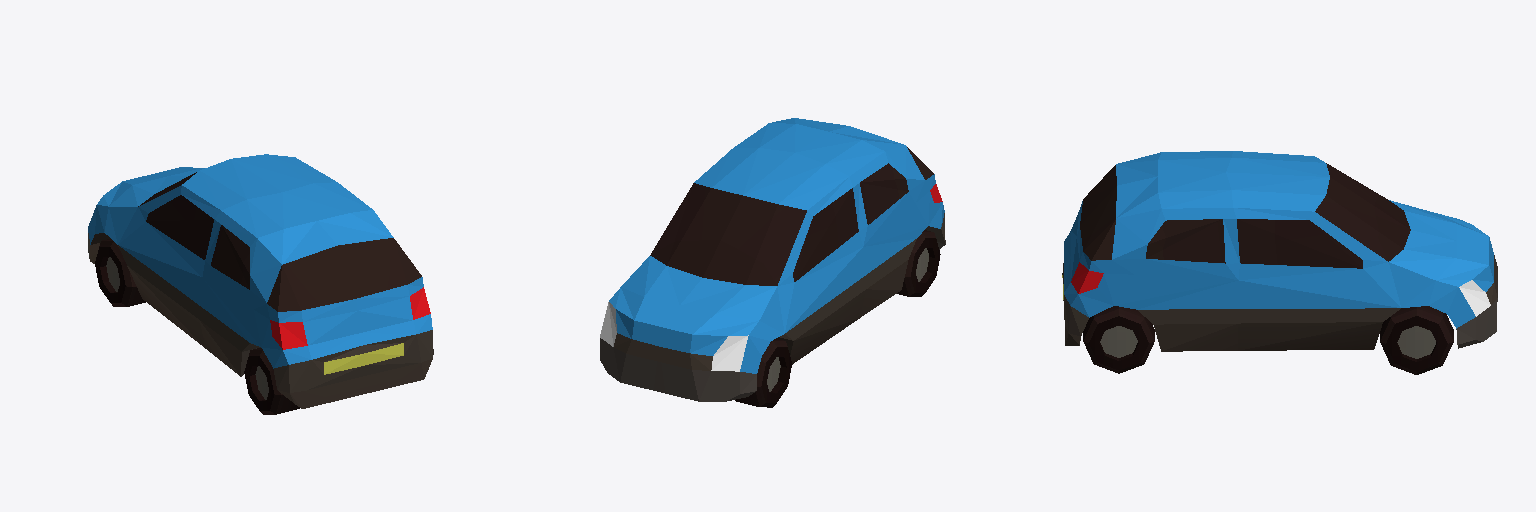
3 renders of one model, left to right at view 1: azimuth 30°, elevation 25°; view 2: azimuth 150°, elevation 25°; view 3: azimuth 270°, elevation 25°, orthographic.
Visible parts, largest first — view 1: Car_Carrosserie, Car_Base; view 2: Car_Carrosserie, Car_Base; view 3: Car_Carrosserie, Car_Base.
Boxes of the visible parts, x1=… form: Car_Carrosserie: x1=88, y1=154, x2=432, y2=368; Car_Base: x1=88, y1=172, x2=433, y2=414; Car_Carrosserie: x1=609, y1=118, x2=944, y2=373; Car_Base: x1=600, y1=147, x2=945, y2=407; Car_Carrosserie: x1=1064, y1=151, x2=1493, y2=328; Car_Base: x1=1062, y1=163, x2=1497, y2=374.
Bounding box in the file's own units: 1.94 × 1.98 × 4.67.
Materials: 1 (1 with a texture image).